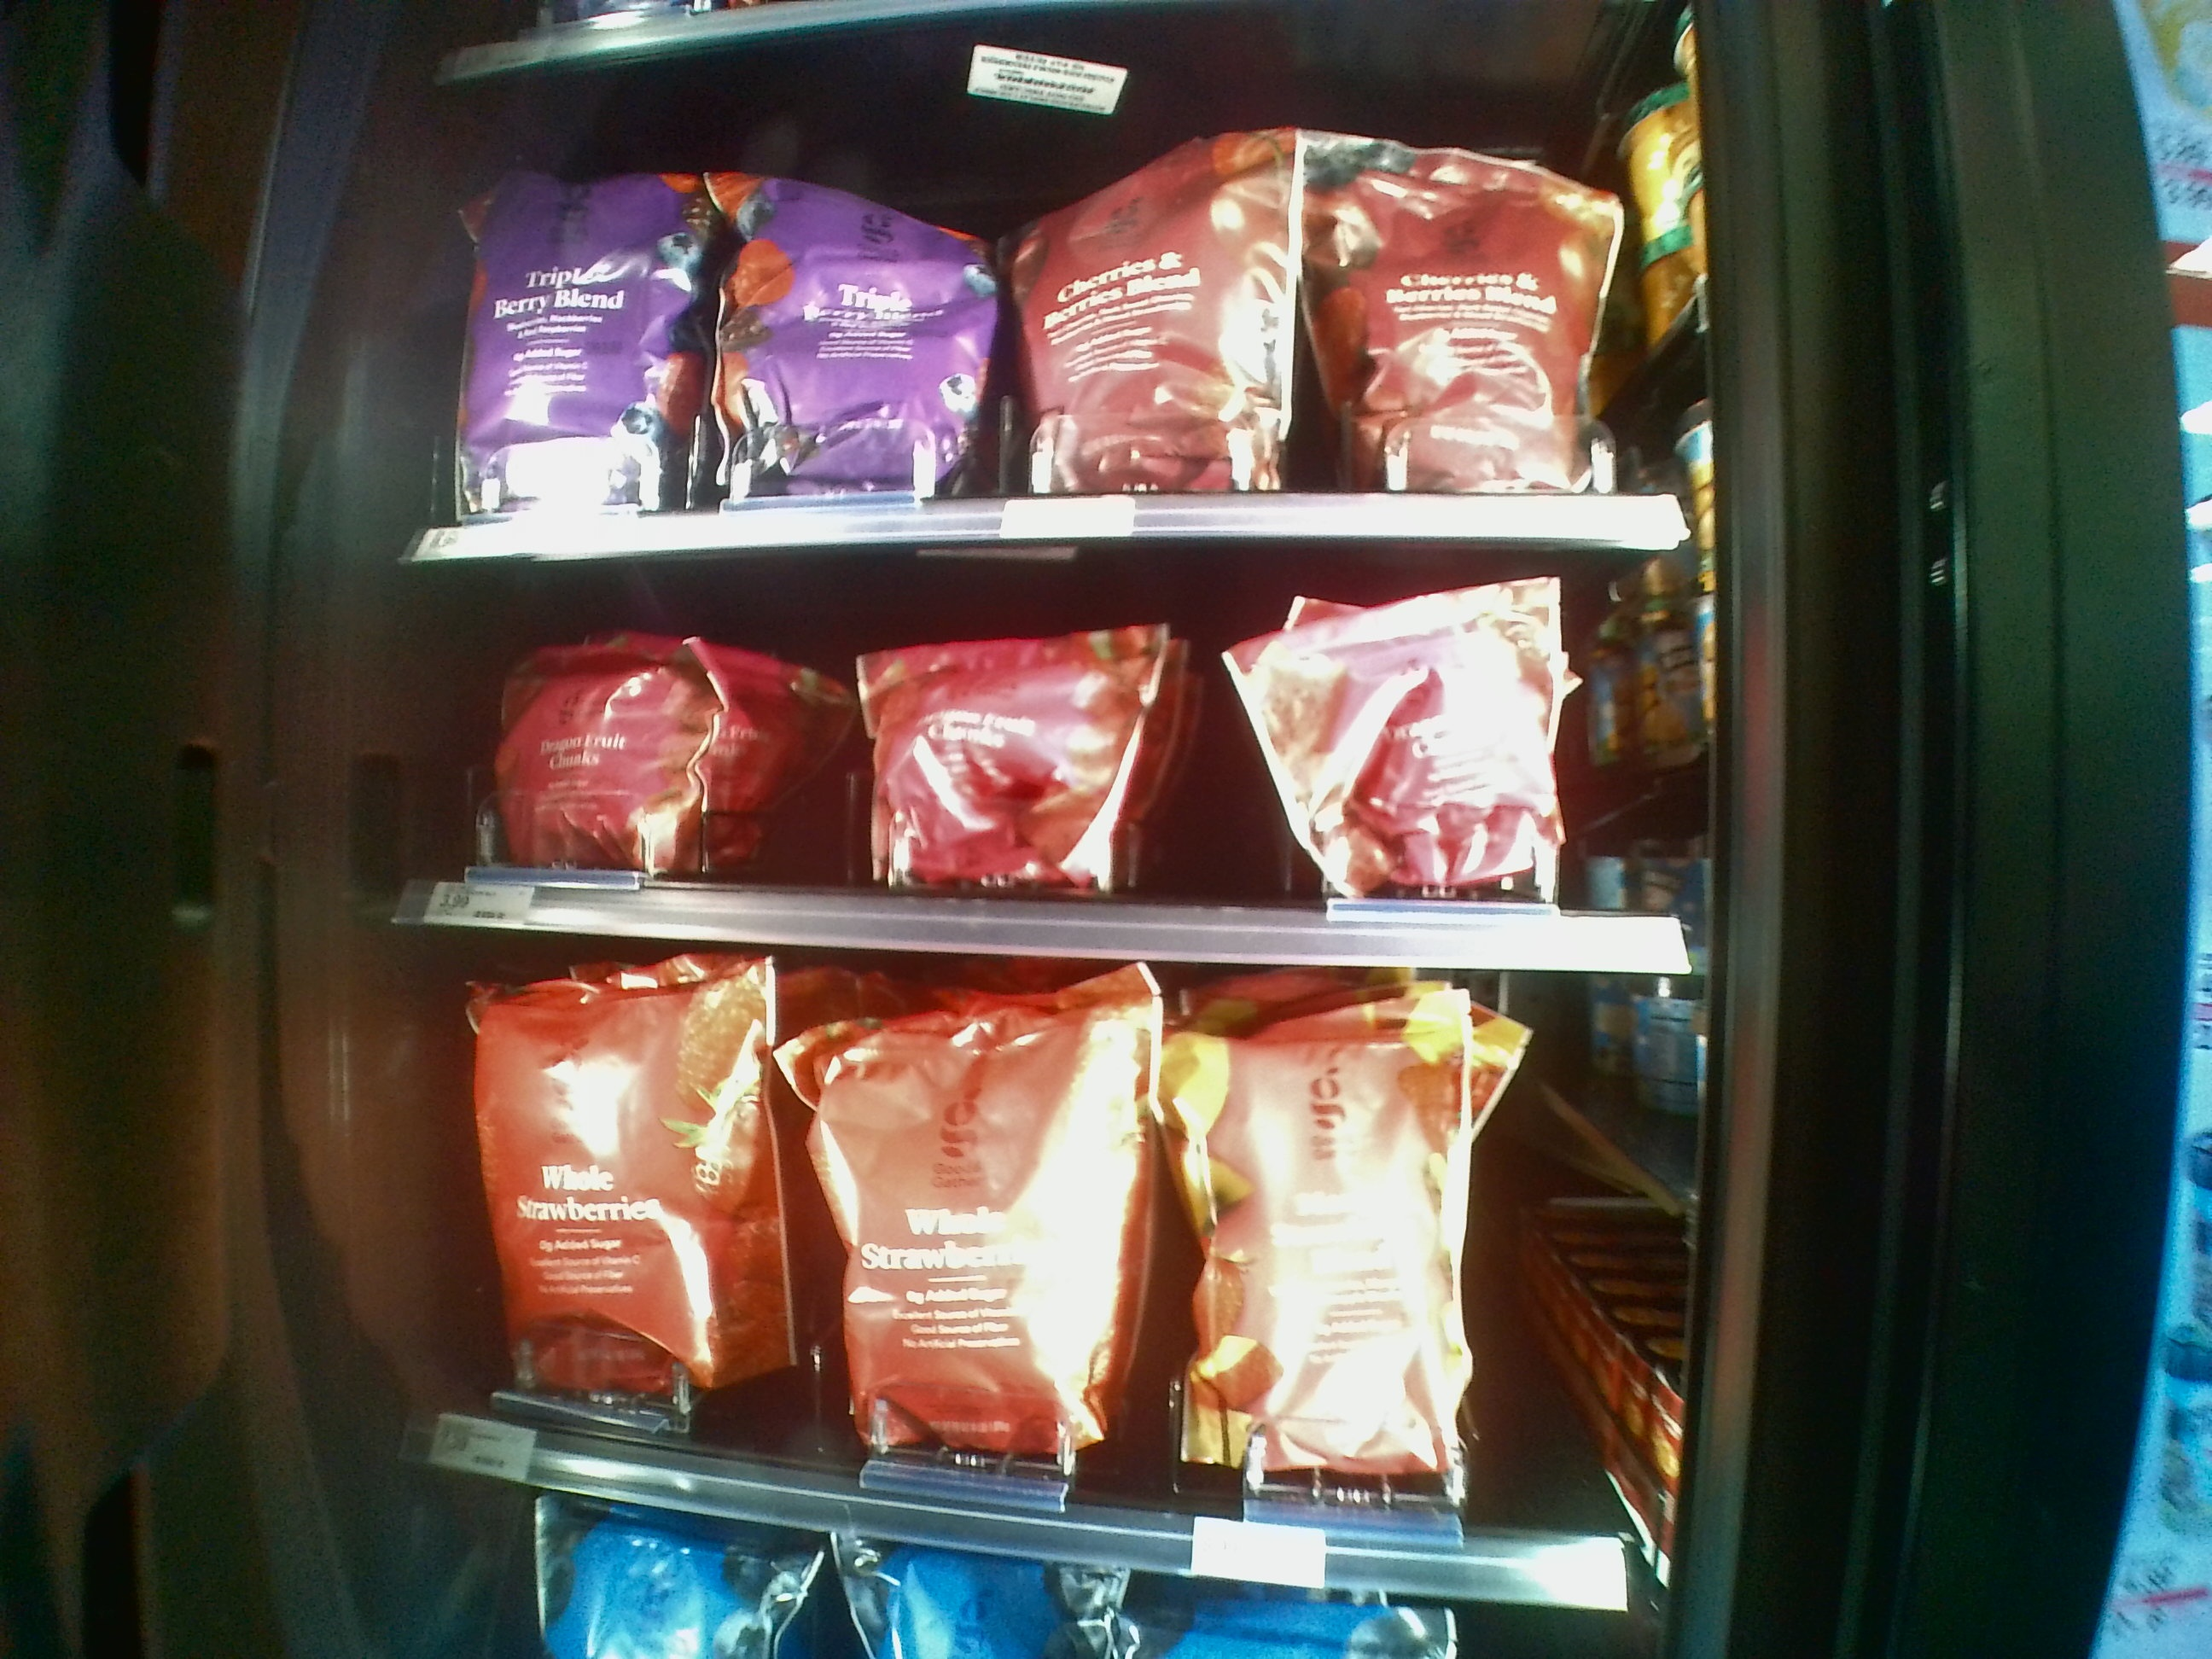shelf: (434, 938, 1651, 1598), (423, 78, 1689, 579), (402, 580, 1698, 962)
